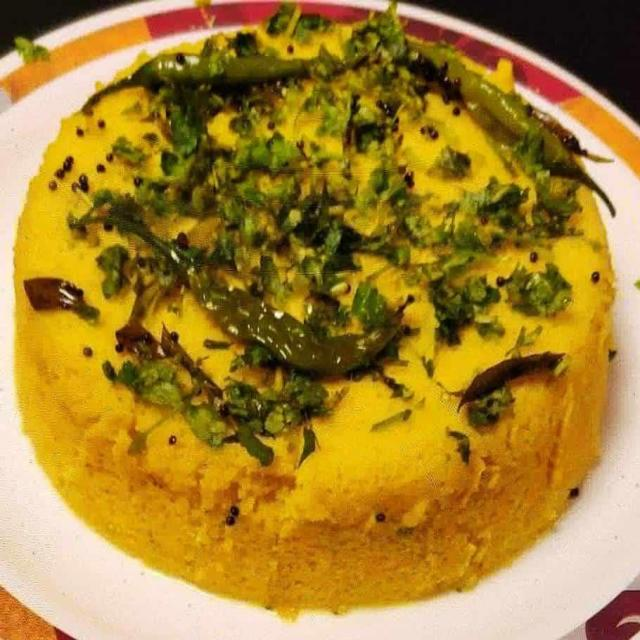dhokla: (14, 28, 614, 586)
